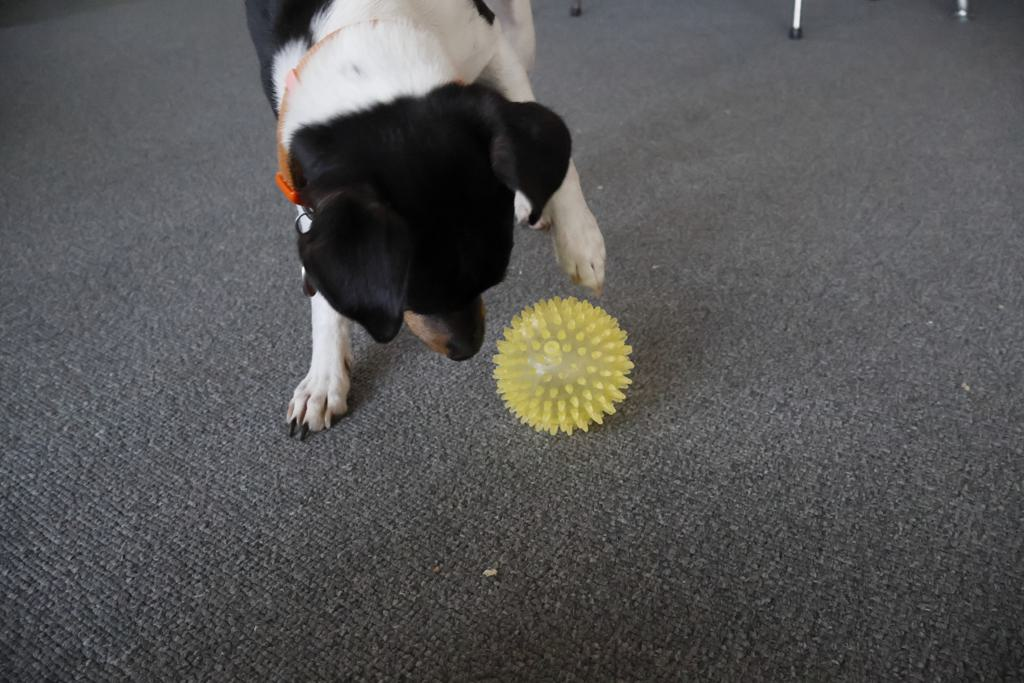Dog: (238, 0, 617, 446)
